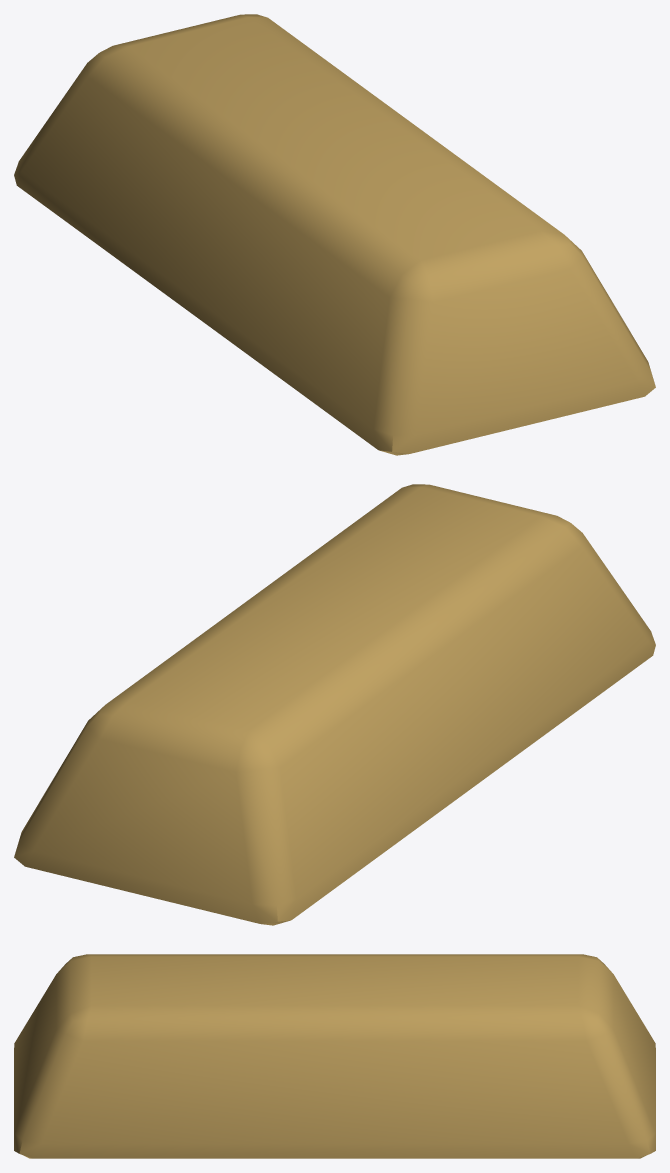
File: gold_bar.gltf.glb
The picture shows the model from 3 angles, top to bottom: view 1: azimuth 30°, elevation 25°; view 2: azimuth 150°, elevation 25°; view 3: azimuth 270°, elevation 25°; orthographic projection. The views are drawn at different scales.
Visible parts, largest first — view 1: gold_bar; view 2: gold_bar; view 3: gold_bar.
Part boxes in pixels (x1,y1,x2,y2): gold_bar: (14,14,655,455); gold_bar: (14,484,655,925); gold_bar: (14,954,655,1158).
Bounding box in the file's own units: 0.2924 × 0.1556 × 0.7085.
